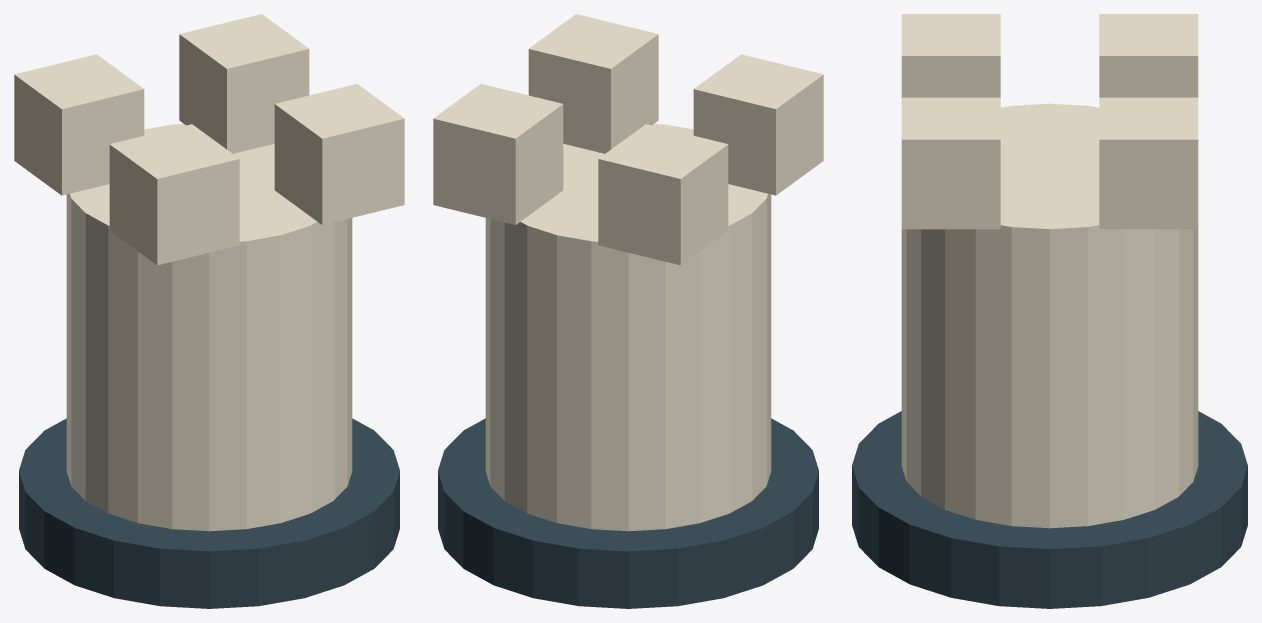
Rendered from tabletop-game-components-outpost-tower-54f9f880__20857.glb.
3 renders of one model, left to right at view 1: azimuth 30°, elevation 25°; view 2: azimuth 150°, elevation 25°; view 3: azimuth 270°, elevation 25°, orthographic. The views are drawn at different scales.
Parts seen in each view (by area): view 1: outpost-tower; view 2: outpost-tower; view 3: outpost-tower.
Part boxes in pixels (x1=…): outpost-tower: x1=14, y1=14, x2=404, y2=608; outpost-tower: x1=433, y1=14, x2=823, y2=608; outpost-tower: x1=852, y1=14, x2=1247, y2=608.
Size of the model in its own units: 0.024 by 0.03 by 0.024.
